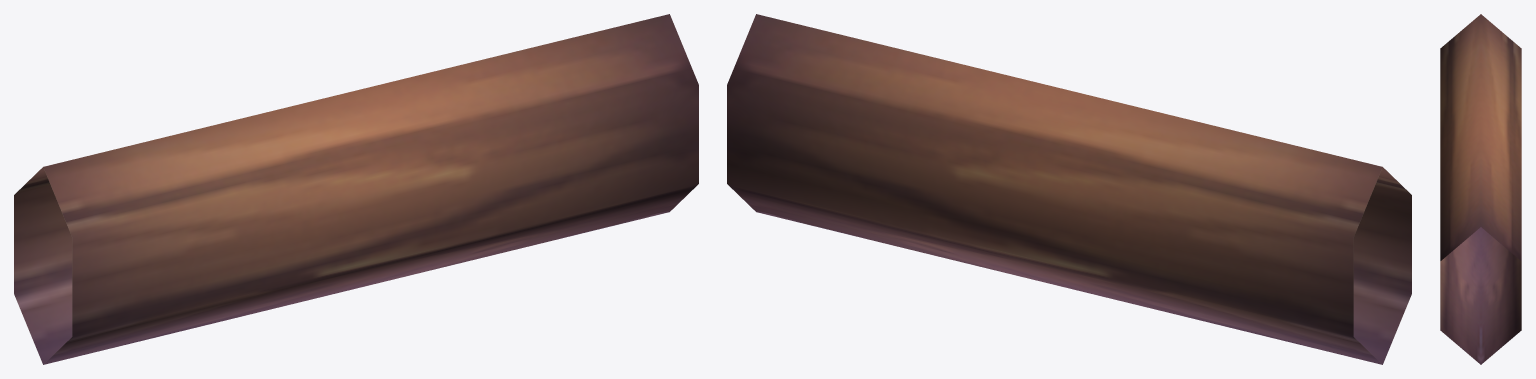
File: scenes_construction_fence01a.FBX
3 views of the same model, side by side, from view 1: azimuth 30°, elevation 25°; view 2: azimuth 150°, elevation 25°; view 3: azimuth 270°, elevation 25° (orthographic). The views are drawn at different scales.
Parts seen in each view (by area): view 1: scenes_construction_fence01a; view 2: scenes_construction_fence01a; view 3: scenes_construction_fence01a.
Boxes of the visible parts, x1,y1,x2,y2 form: scenes_construction_fence01a: (14, 14, 698, 364); scenes_construction_fence01a: (727, 14, 1411, 364); scenes_construction_fence01a: (1440, 14, 1521, 364).
Size of the model in its own units: 185 by 55.78 by 29.74.
